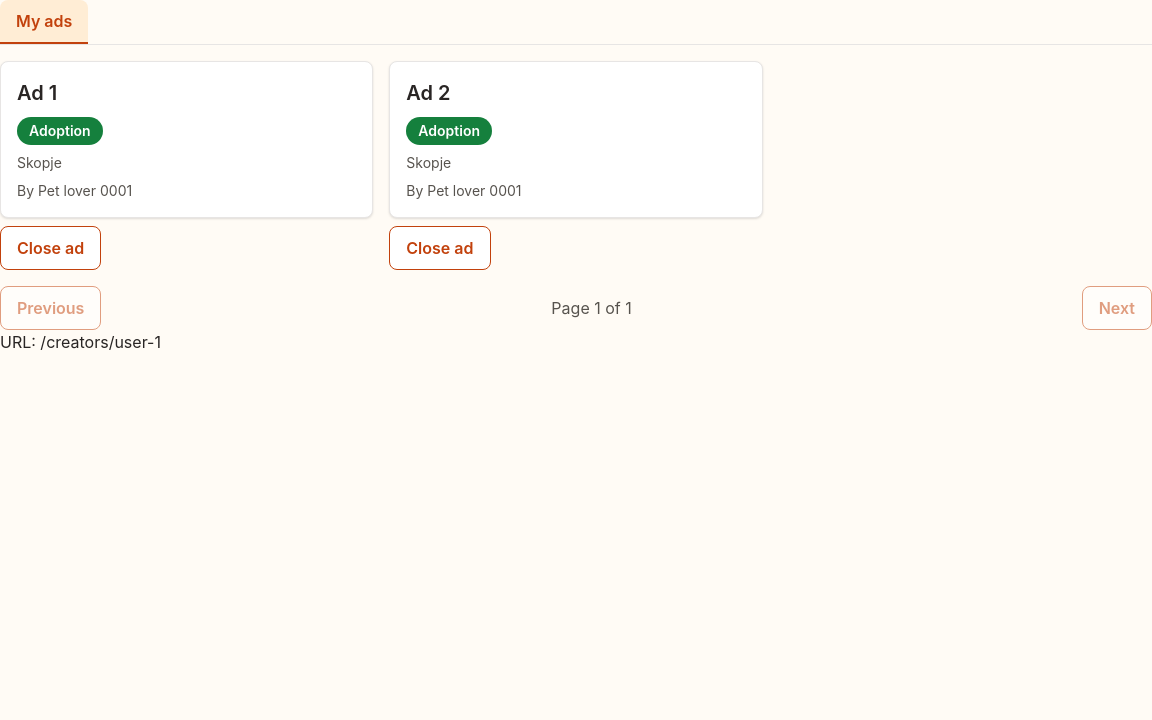
Test: MyAdsTab close ad › shows the message on 404 and reloads the list after OK
Click the button named "Close ad: Ad 1" at (51, 248), box [0,226,101,270]
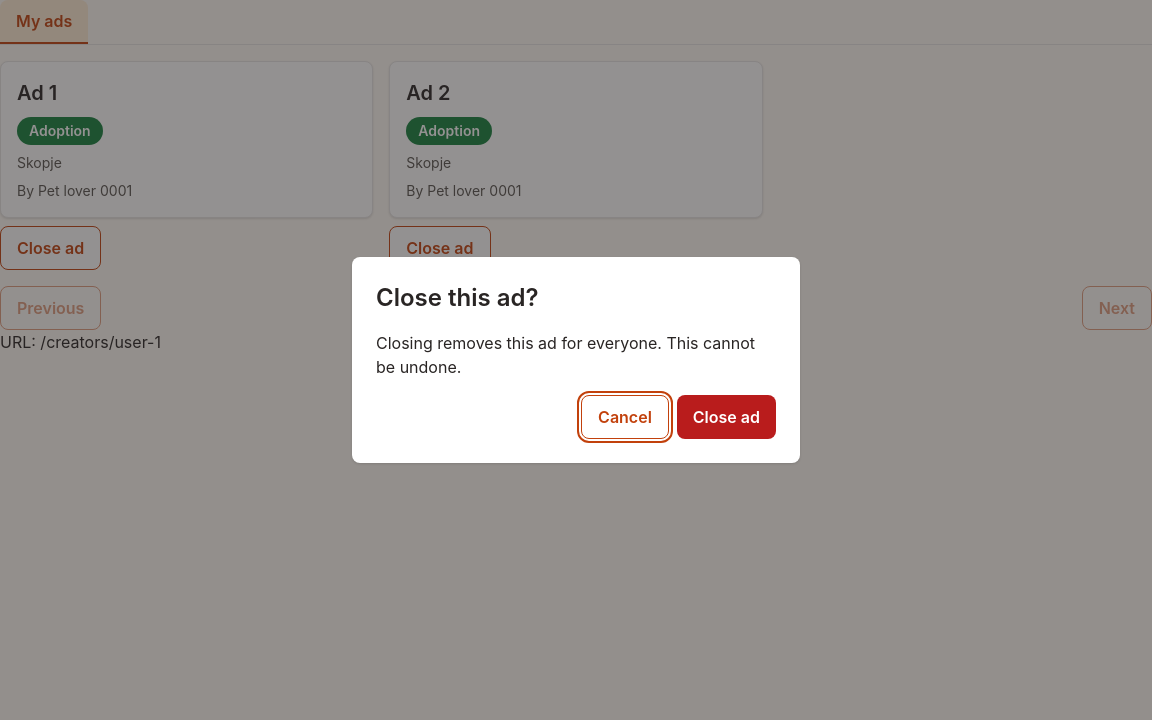
Click the button "Close ad" at (726, 417), box [677,395,776,439]
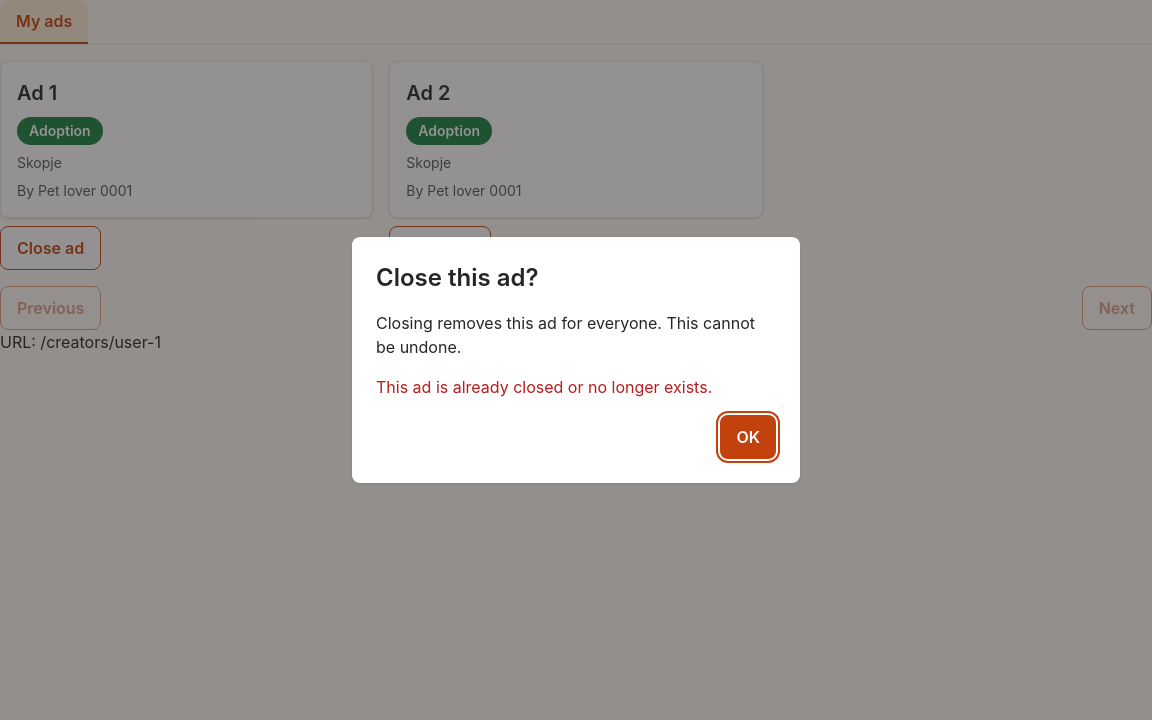
Expected: the message reads "This ad is already closed or no longer exists.", [376,377,712,397]
Click the button "OK" at (748, 437), box [720,415,776,459]
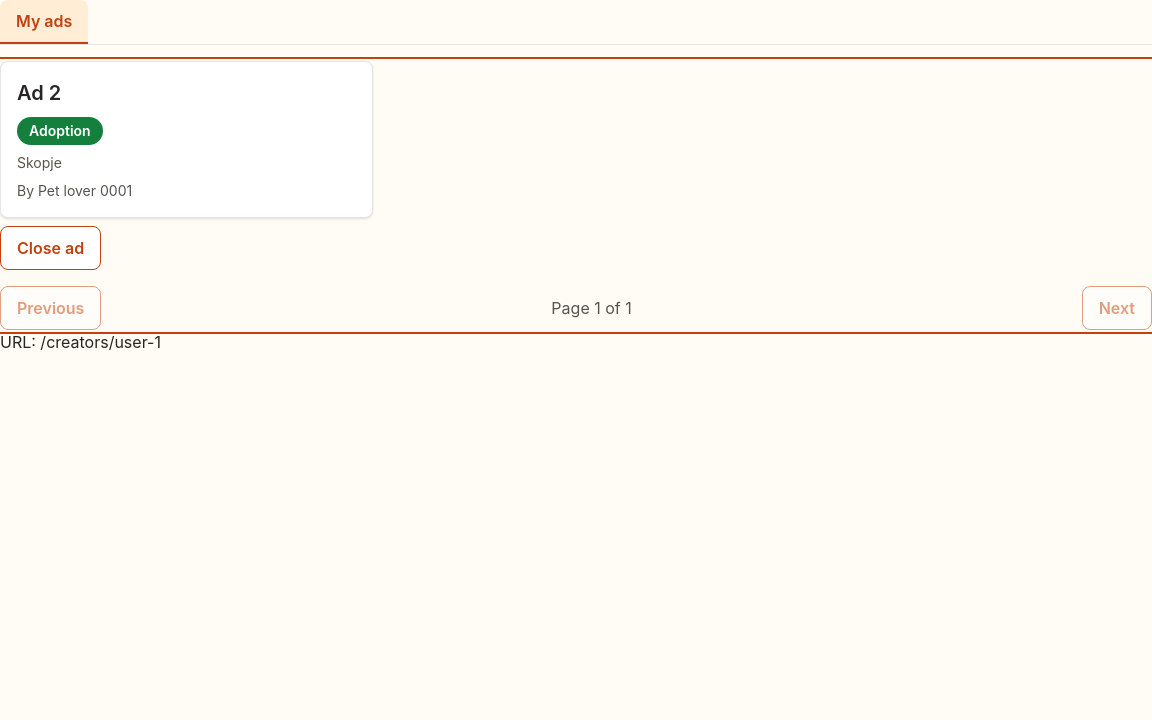
Expected: the link "Ad 1" is gone
